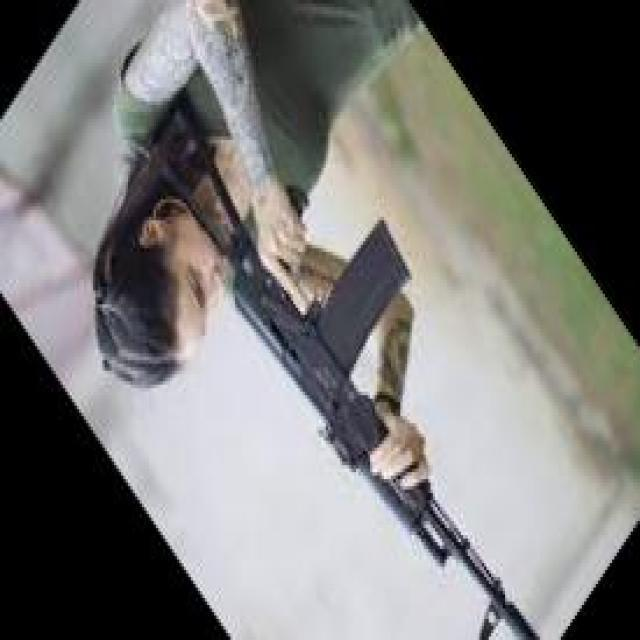Rifle: (142, 85, 540, 640)
